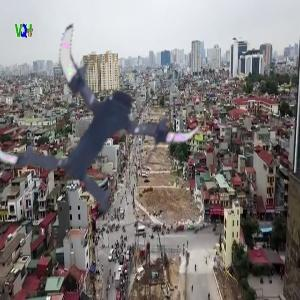drone: (11, 25, 203, 217)
